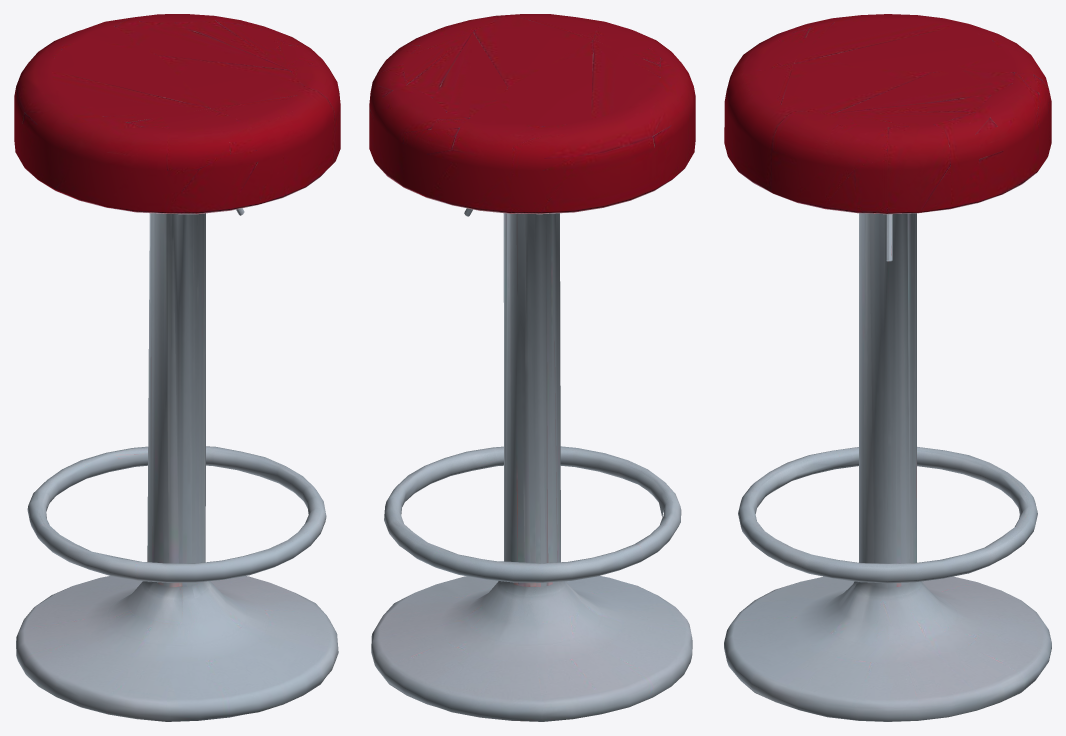
Rendered from counter-stool.glb.
The picture shows the model from 3 angles, left to right: view 1: azimuth 30°, elevation 25°; view 2: azimuth 150°, elevation 25°; view 3: azimuth 270°, elevation 25°; orthographic projection.
Bounding box in the file's own units: 0.4829 × 0.9526 × 0.4839.
1 material, 1 textured.
